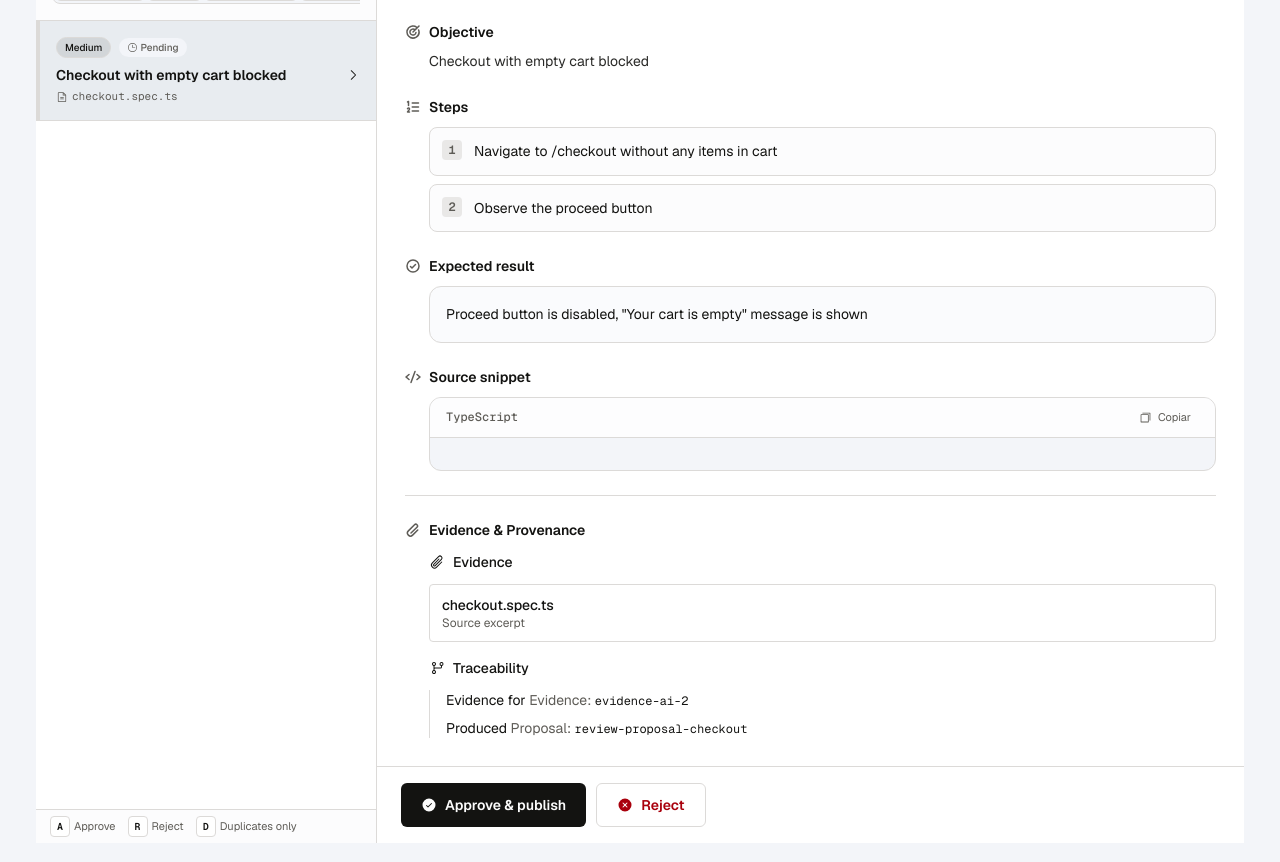
ReviewInboxPage › approval conflicts › explains an automation key collision without a case name when none is available
(page scrolled)
Click the button "Approve & publish" at {"x": 494, "y": 805}, box [401,783,586,827]
(page scrolled)
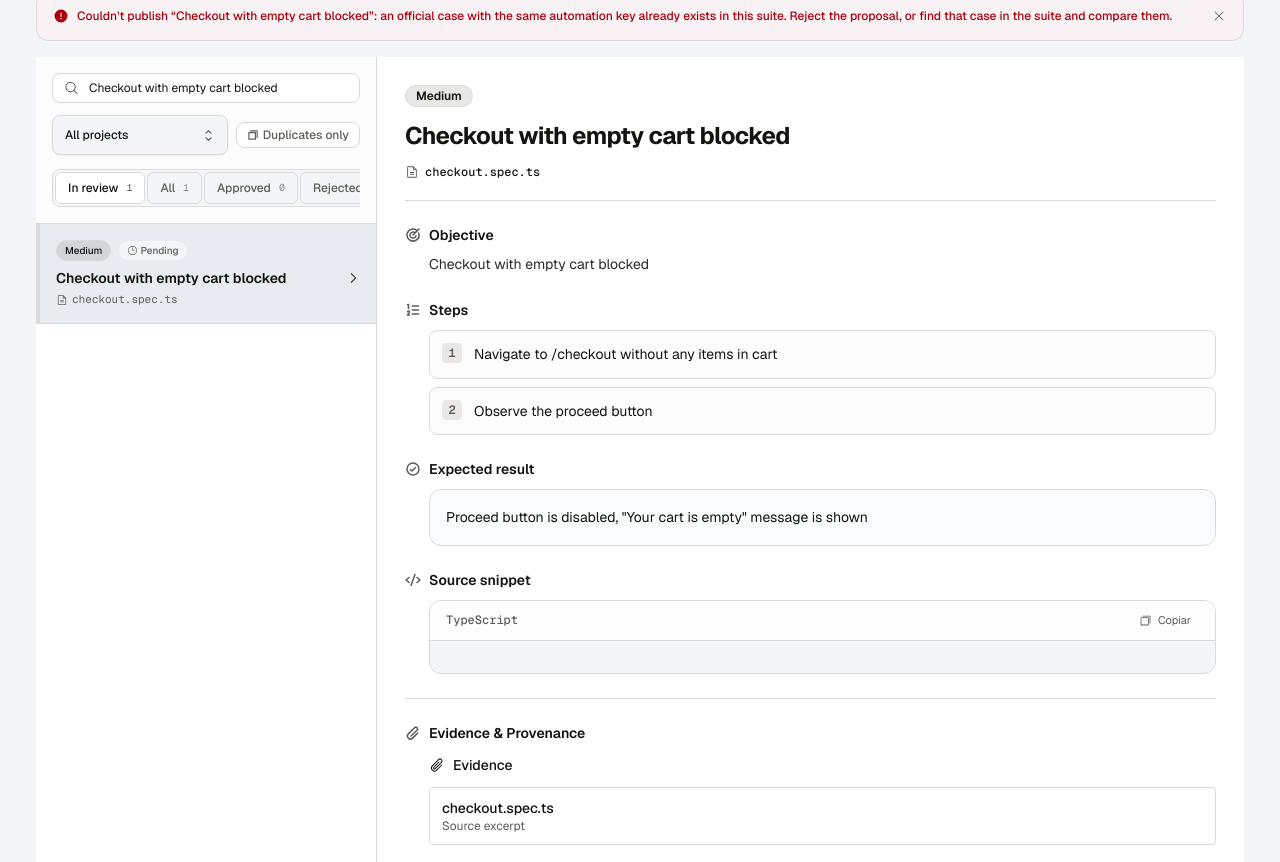
Expected: the message shows "an official case with the same automation key already exists in this suite", [77,8,1172,24]
